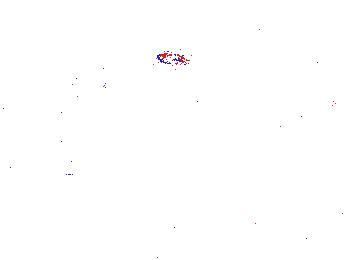X-ray fish: (54, 53, 110, 108)
red belly glassfish: (153, 46, 215, 68)
redtail glassfish: (197, 4, 275, 39), (292, 78, 342, 112), (305, 19, 346, 53)
